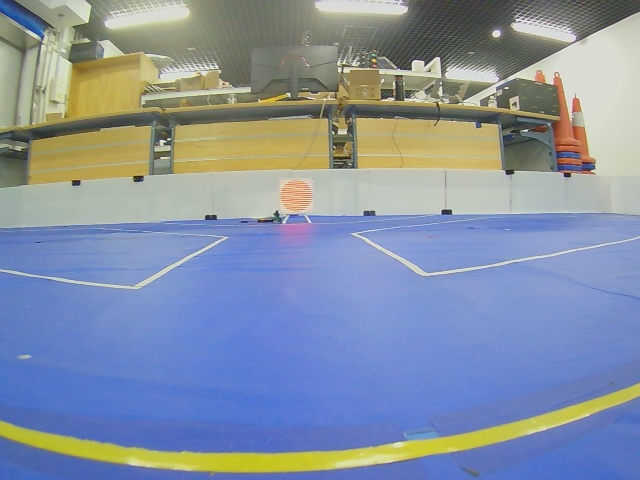red: (279, 179, 313, 213)
